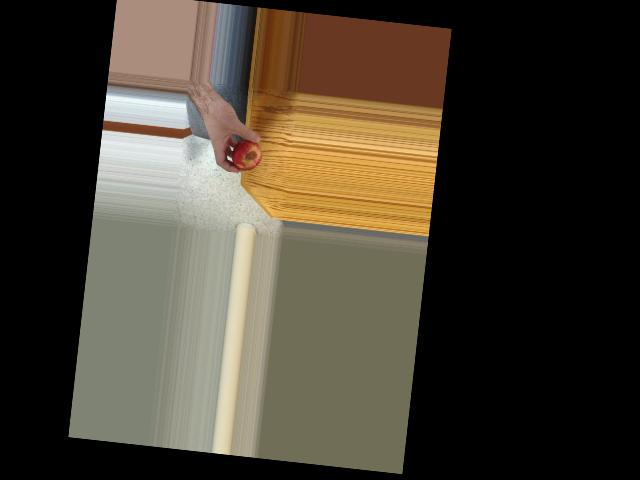apple: (229, 134, 264, 173)
